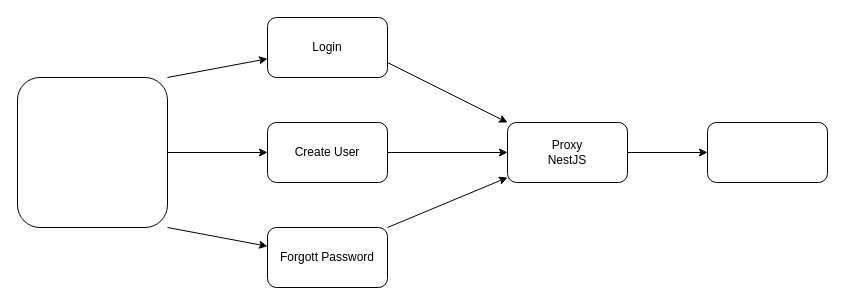
Image size: 845x305. Some labels were removed from this diagram. Each missing label, with the box of its shape:
API Inbazz Supabase: (706, 122, 828, 182)
APP Mobile: (16, 76, 168, 228)
